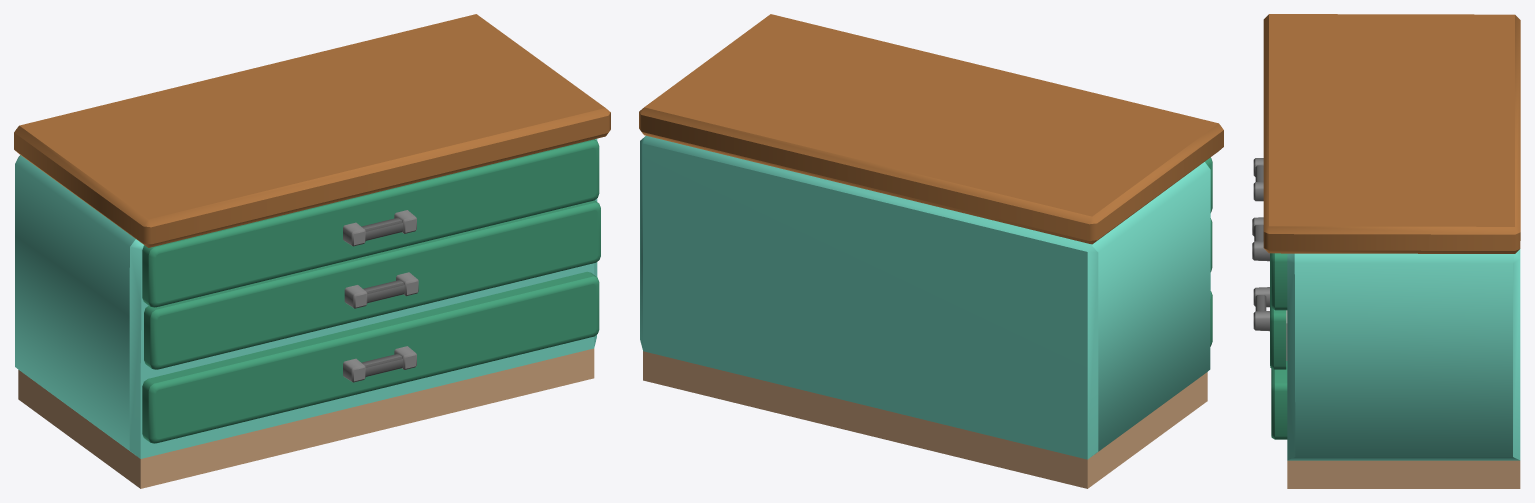
File: Furnit_C_7.glb
3 renders of one model, left to right at view 1: azimuth 30°, elevation 25°; view 2: azimuth 150°, elevation 25°; view 3: azimuth 270°, elevation 25°, orthographic. The views are drawn at different scales.
Visible parts, largest first — view 1: Furnit_C_7; view 2: Furnit_C_7; view 3: Furnit_C_7.
Part boxes in pixels (x1,y1,x2,y2): Furnit_C_7: (14,14,610,488); Furnit_C_7: (639,14,1223,488); Furnit_C_7: (1252,14,1520,488).
Size of the model in its own units: 1.8 by 1.02 by 0.9392.
1 material, 1 textured.
